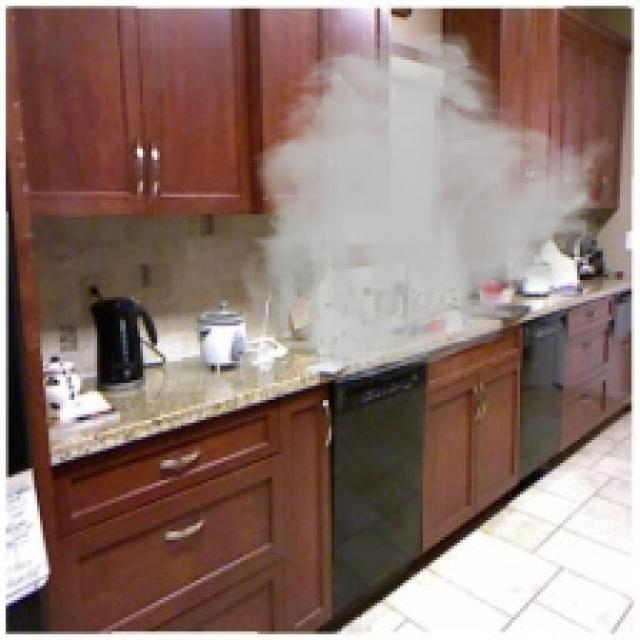smoke: (237, 26, 617, 383)
